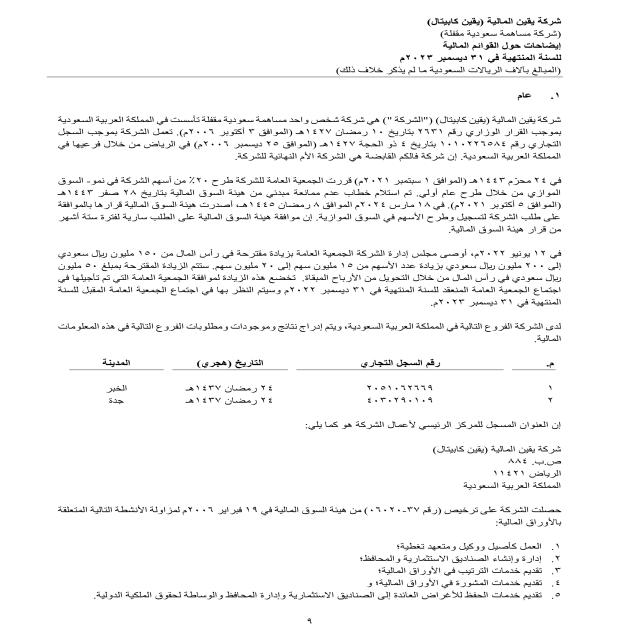notes: (424, 42, 561, 52)
table: (31, 357, 574, 417)
